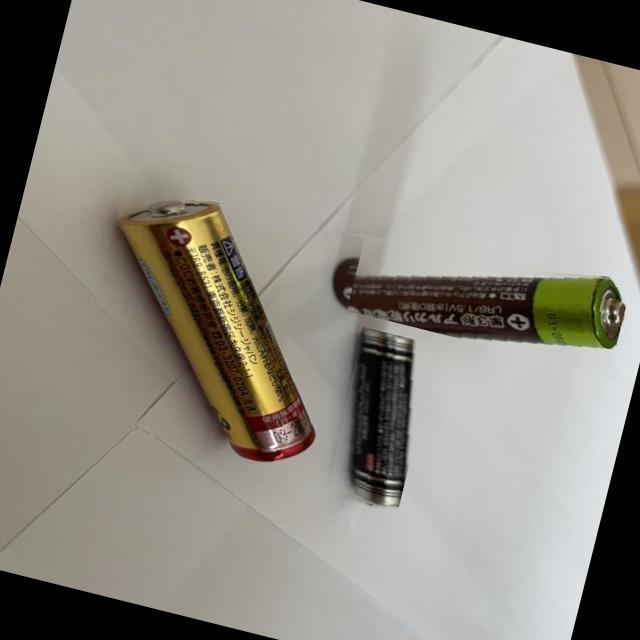Hazard: (66, 178, 363, 472), (324, 211, 630, 375), (320, 326, 438, 512)
